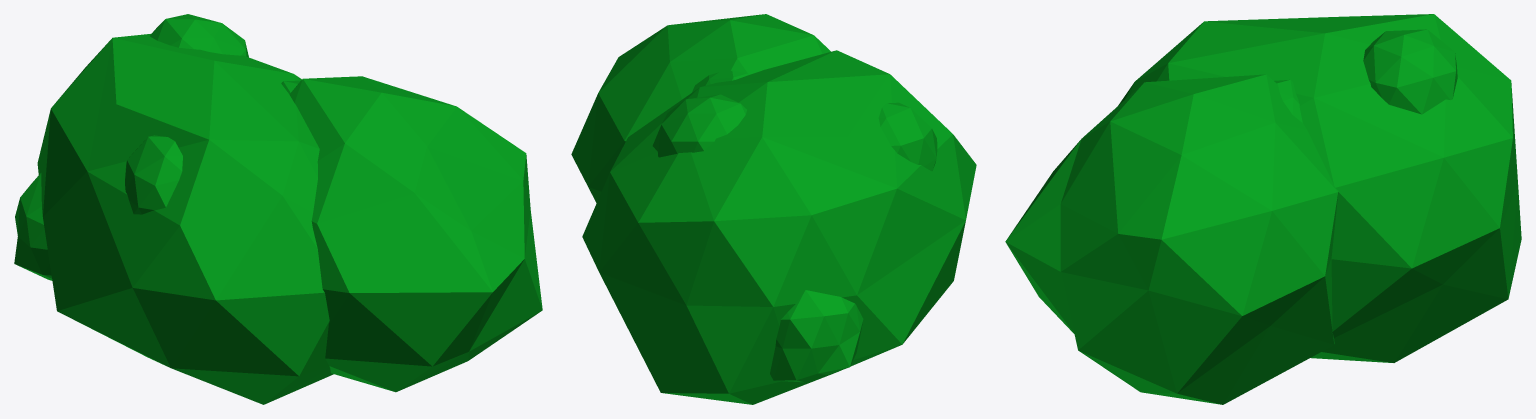
File: Kust3.fbx
3 views of the same model, side by side, from view 1: azimuth 30°, elevation 25°; view 2: azimuth 150°, elevation 25°; view 3: azimuth 270°, elevation 25° (orthographic). The views are drawn at different scales.
Parts seen in each view (by area): view 1: Икосфера.001; view 2: Икосфера.001; view 3: Икосфера.001.
Boxes of the visible parts, x1,y1,x2,y2 form: Икосфера.001: (14,14,542,404); Икосфера.001: (571,14,976,404); Икосфера.001: (1005,14,1521,404).
Size of the model in its own units: 262 by 201 by 299.
